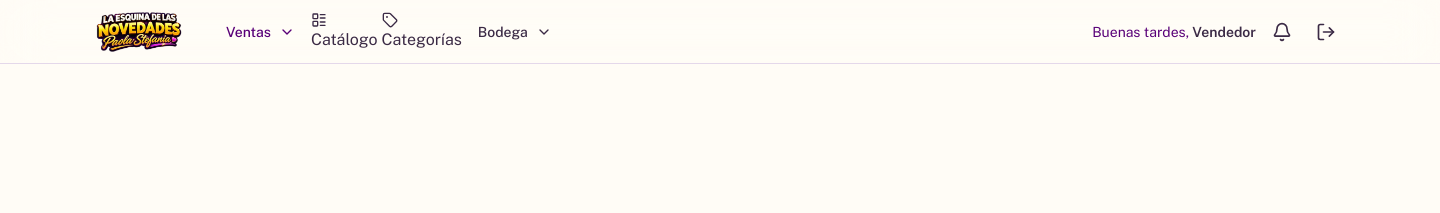
R7 — menu Bodega para vendedor incluye "Alertas de stock" › TopNav (desktop) › item visible al abrir Bodega dropdown — hoy solo admin/bodeguero
This screenshot has width=1440, height=213.
Hover over the button "Bodega" at (515, 32), box [466,14,564,50]
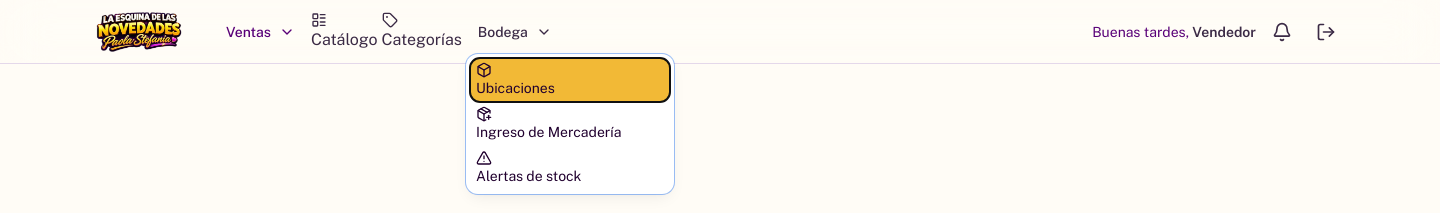
Check: the link "Alertas de stock" is shown, box [476,150,581,186]
